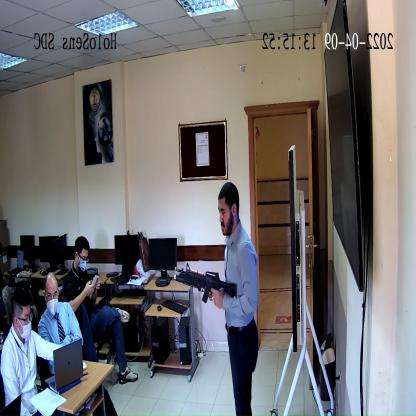handgun: (178, 260, 238, 304)
